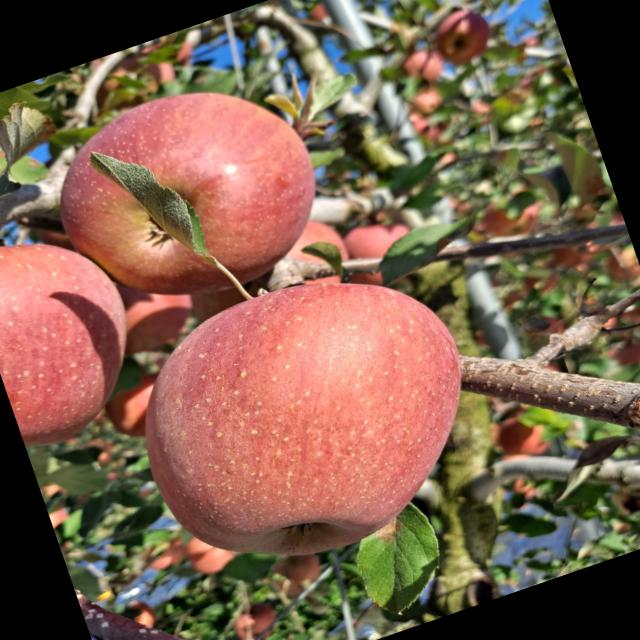fresh: (95, 228, 521, 607), (26, 58, 339, 331)
